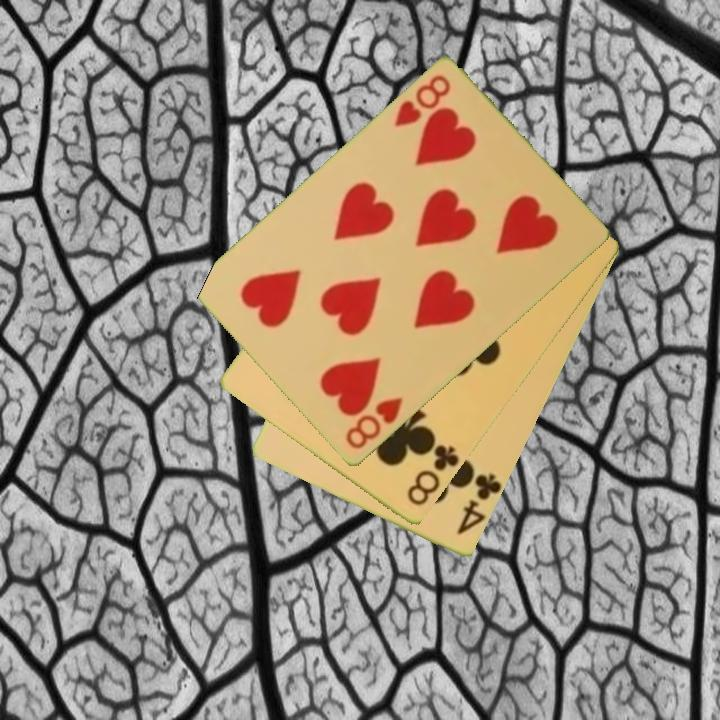4c: (453, 470, 504, 539)
8c: (403, 438, 462, 510)
8h: (342, 394, 406, 453), (390, 72, 454, 131)
